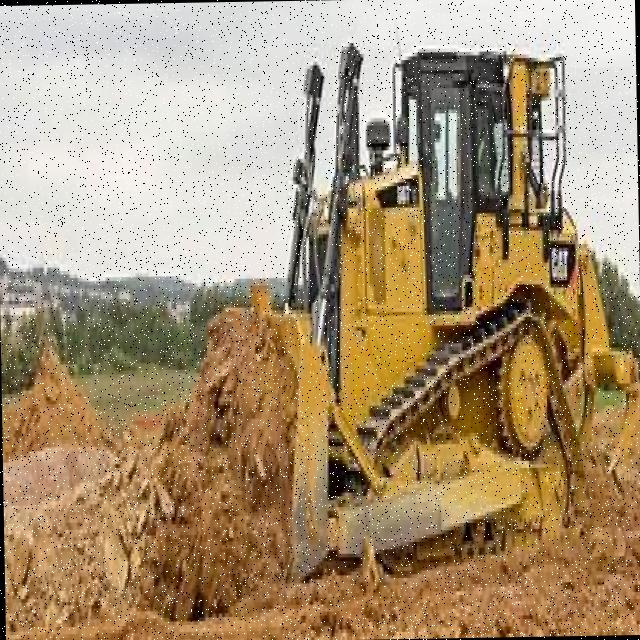Bulldozer: (217, 0, 640, 619)
